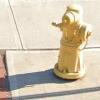a fire hydrant: (57, 8, 88, 76)
